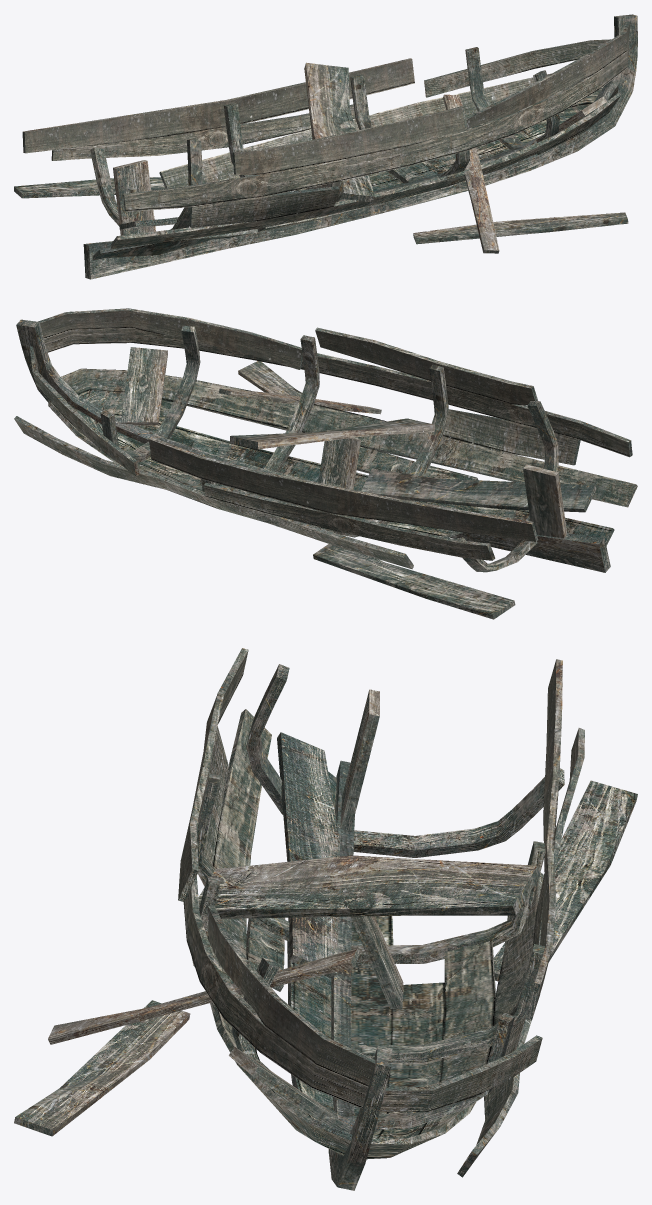
File: Boat3.fbx
3 views of the same model, one above another, from view 1: azimuth 30°, elevation 25°; view 2: azimuth 150°, elevation 25°; view 3: azimuth 270°, elevation 25° (orthographic). The views are drawn at different scales.
Parts seen in each view (by area): view 1: polySurface1096; view 2: polySurface1096; view 3: polySurface1096.
Boxes of the visible parts, x1,y1,x2,y2 form: polySurface1096: (14, 14, 637, 279); polySurface1096: (14, 308, 637, 619); polySurface1096: (14, 648, 637, 1190).
Size of the model in its own units: 5.23 by 1.22 by 3.12.
